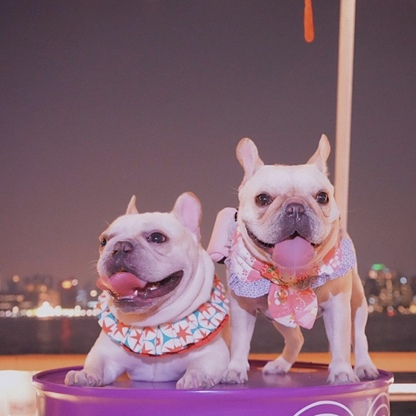bulldog: (226, 134, 378, 382), (62, 182, 231, 391)
